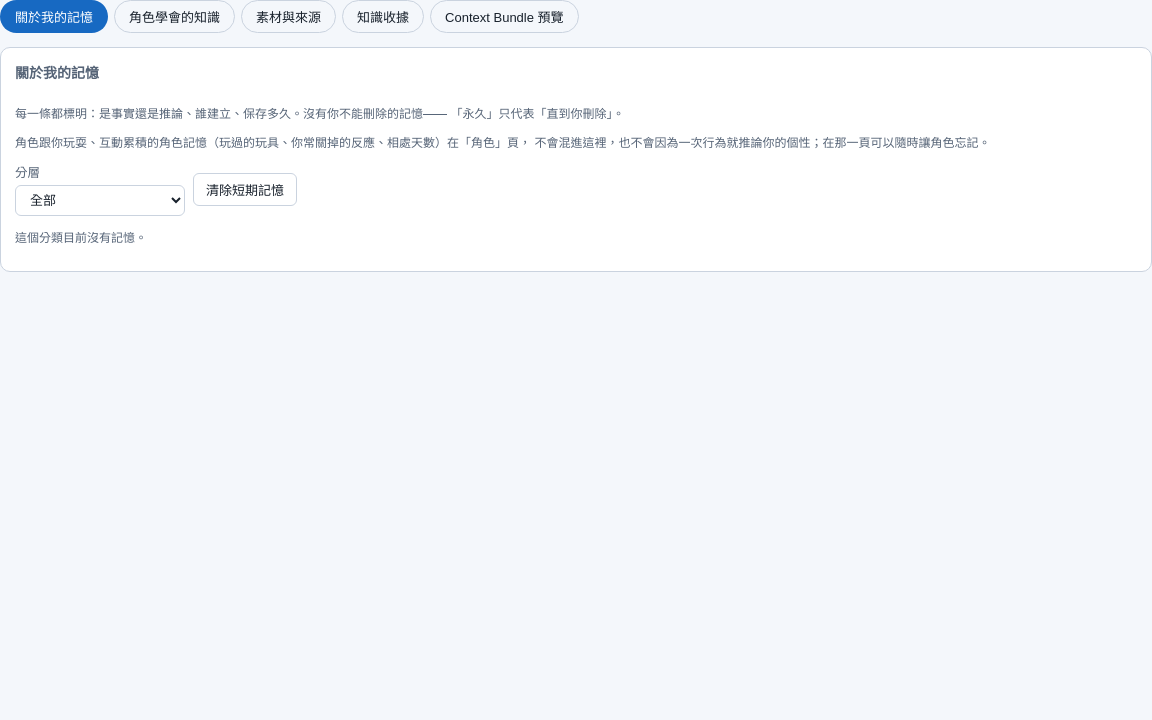
Test: memory-ui-005：按鈕失敗要看得見 › 知識「不採用」失敗要看得見（和「採用」一致）
What coordinates should you click on to do the following:
click the tab "學會的知識"
I would click on:
 (174, 16)
Its box is 114,0 -> 235,33.
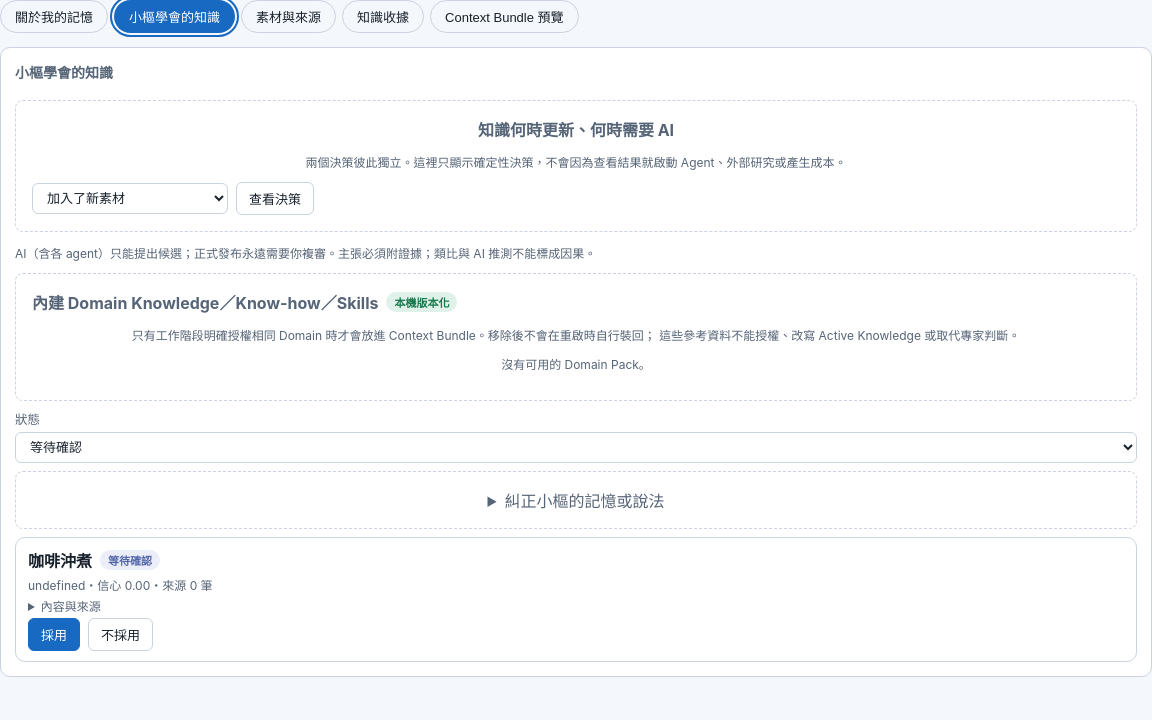
What coordinates should you click on to do the following:
click the button "不採用"
I would click on:
 (120, 634)
Its box is 88,618 -> 153,651.
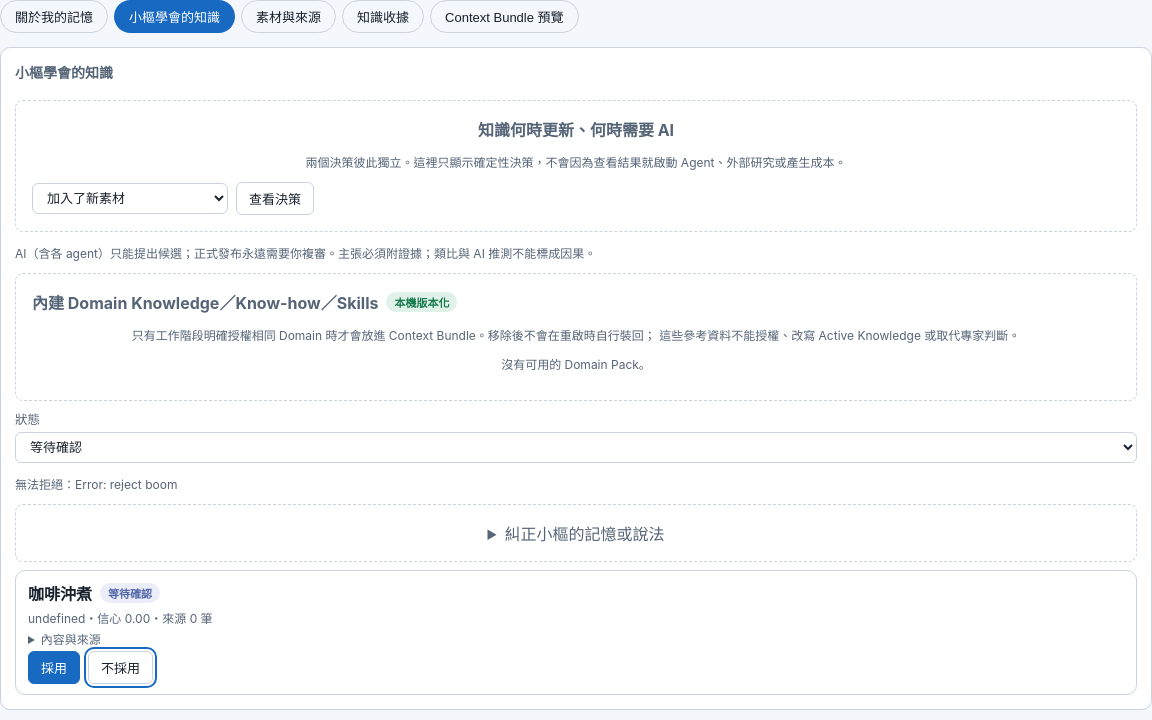
Expected: the text "無法拒絕：Error: reject boom" is shown, 15,477 -> 177,492
